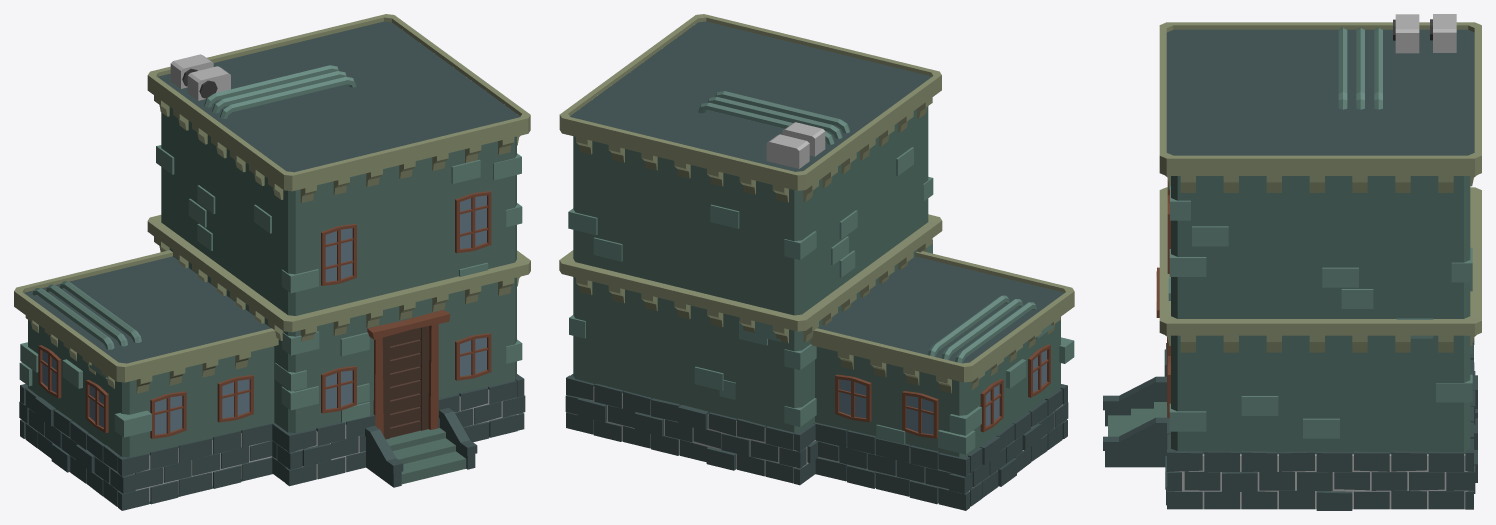
Rendered from q_house1.glb.
The picture shows the model from 3 angles, left to right: view 1: azimuth 30°, elevation 25°; view 2: azimuth 150°, elevation 25°; view 3: azimuth 270°, elevation 25°; orthographic projection. The views are drawn at different scales.
Visible parts, largest first — view 1: 2Story_Sidehouse_Mat; view 2: 2Story_Sidehouse_Mat; view 3: 2Story_Sidehouse_Mat.
Boxes of the visible parts, x1,y1,x2,y2 form: 2Story_Sidehouse_Mat: (14, 14, 530, 510); 2Story_Sidehouse_Mat: (559, 14, 1074, 510); 2Story_Sidehouse_Mat: (1103, 14, 1481, 510).
Bounding box in the file's own units: 3.47 × 2.76 × 2.53.
